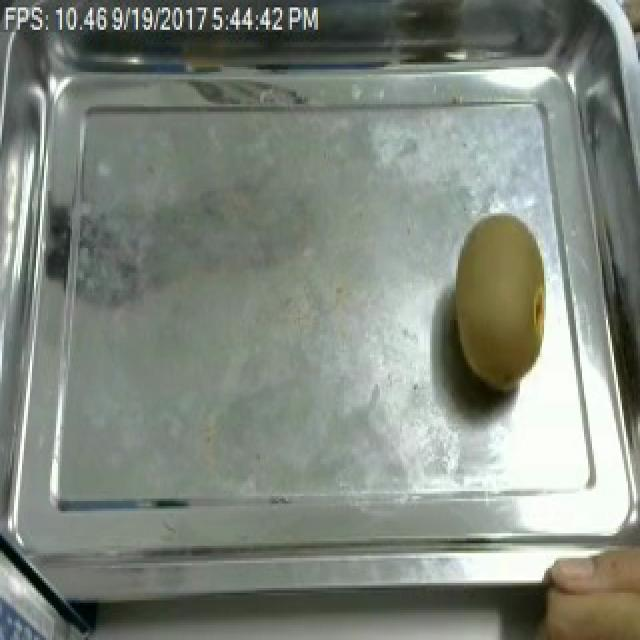Fruit: (438, 203, 562, 404), (518, 531, 640, 640)
